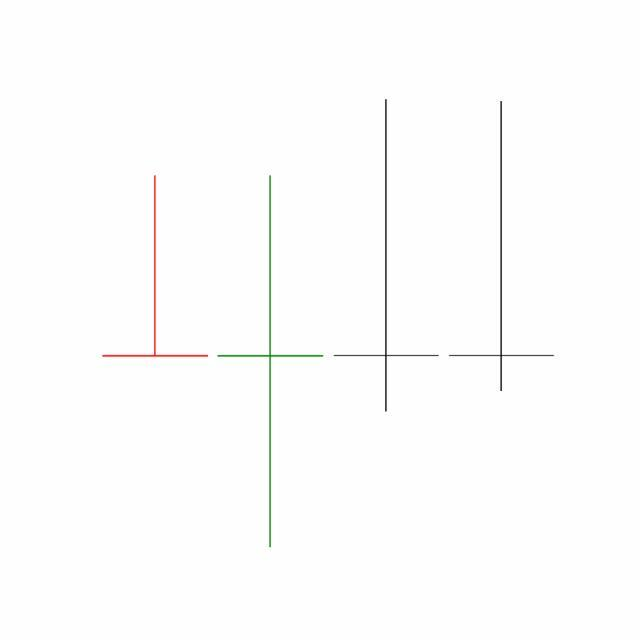Gravestone Doji: (444, 98, 560, 395)
